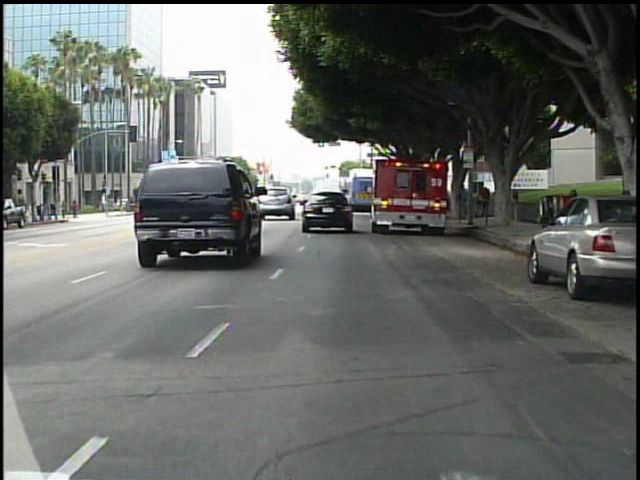person: (478, 185, 492, 219), (70, 196, 83, 222), (59, 197, 70, 221)
